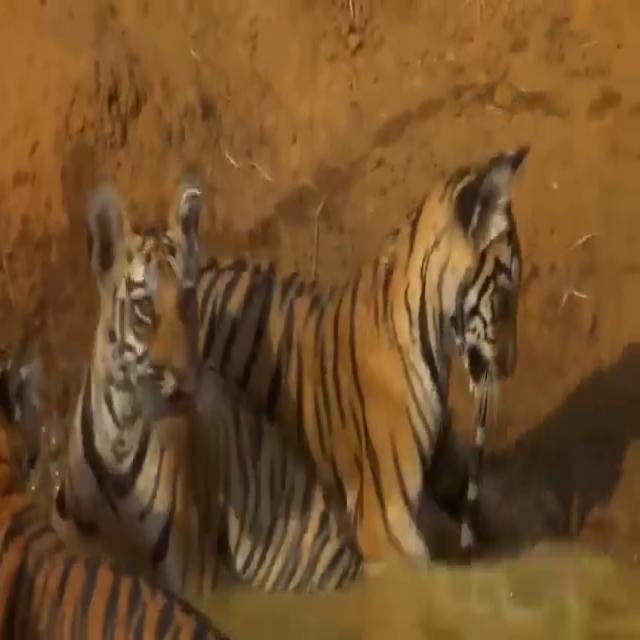tiger: (199, 140, 531, 565), (71, 185, 372, 585)
